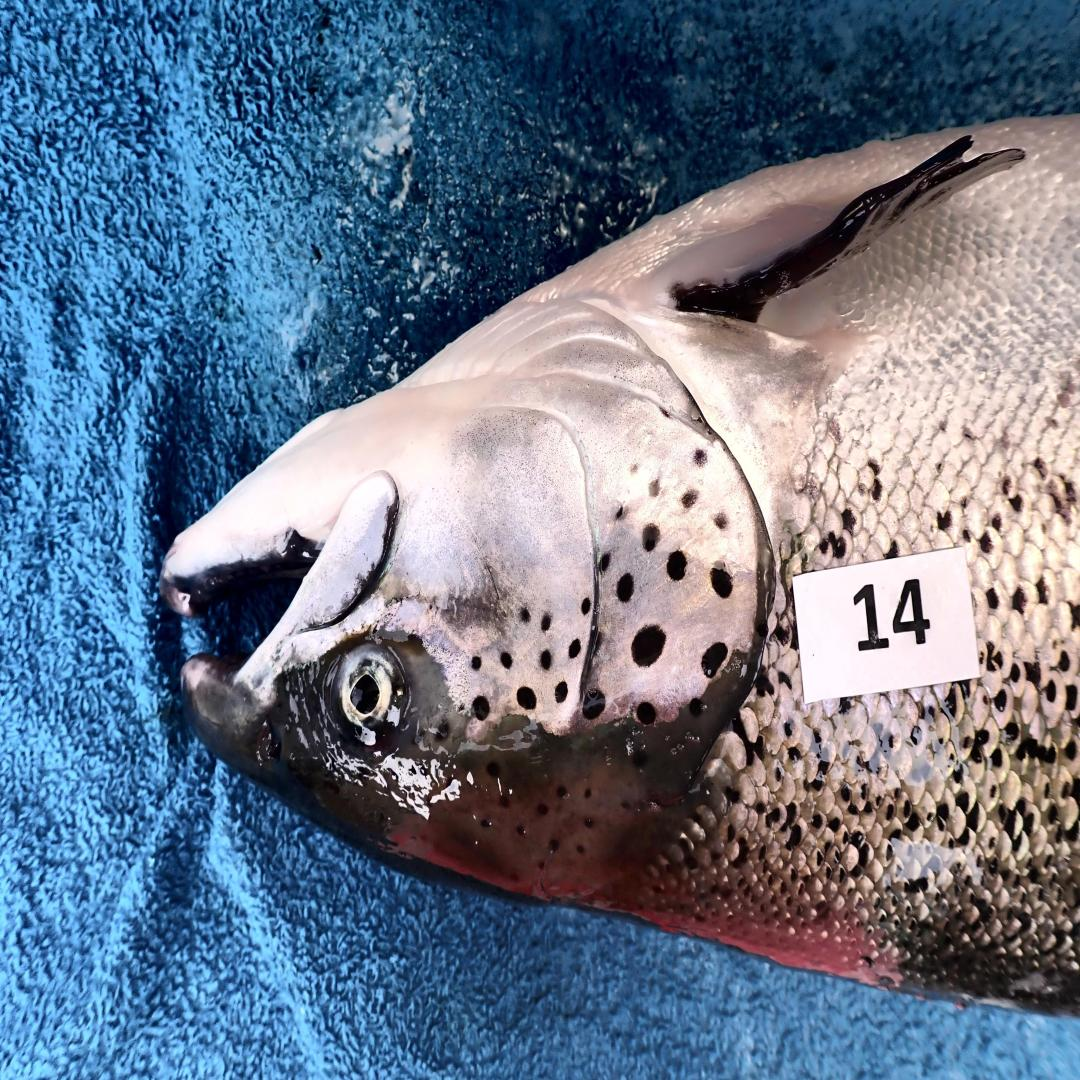spot: (631, 624, 667, 667), (702, 641, 728, 678), (582, 689, 605, 720), (711, 568, 732, 599), (667, 551, 686, 579), (641, 523, 660, 551), (616, 574, 635, 602), (637, 703, 656, 726), (517, 686, 536, 709), (472, 698, 489, 720), (681, 489, 698, 509), (692, 447, 709, 467), (599, 551, 612, 574), (688, 698, 703, 716), (555, 681, 567, 703), (540, 650, 553, 669), (648, 478, 660, 498), (500, 652, 513, 669), (715, 512, 728, 529), (570, 638, 580, 658), (580, 596, 591, 613), (657, 406, 671, 419), (542, 613, 551, 633), (470, 655, 481, 669), (616, 506, 624, 520), (521, 608, 529, 622), (631, 464, 637, 472)
